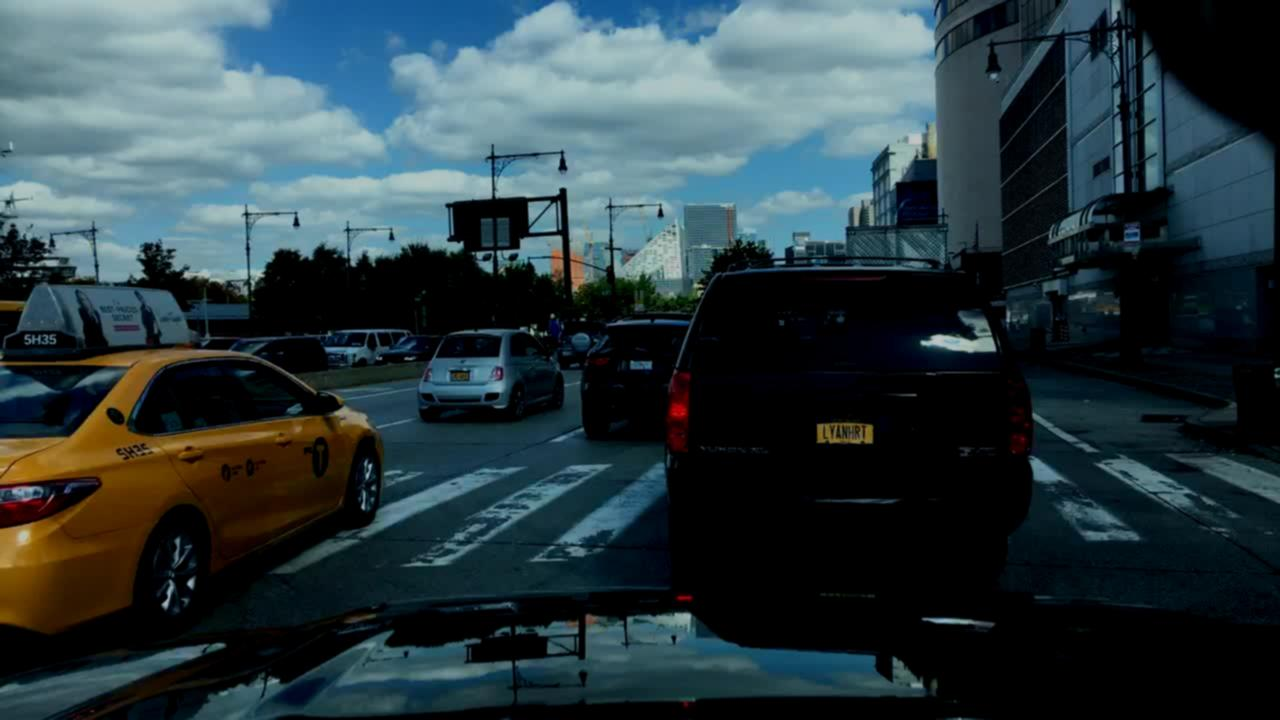GMC: (958, 443, 998, 460)
